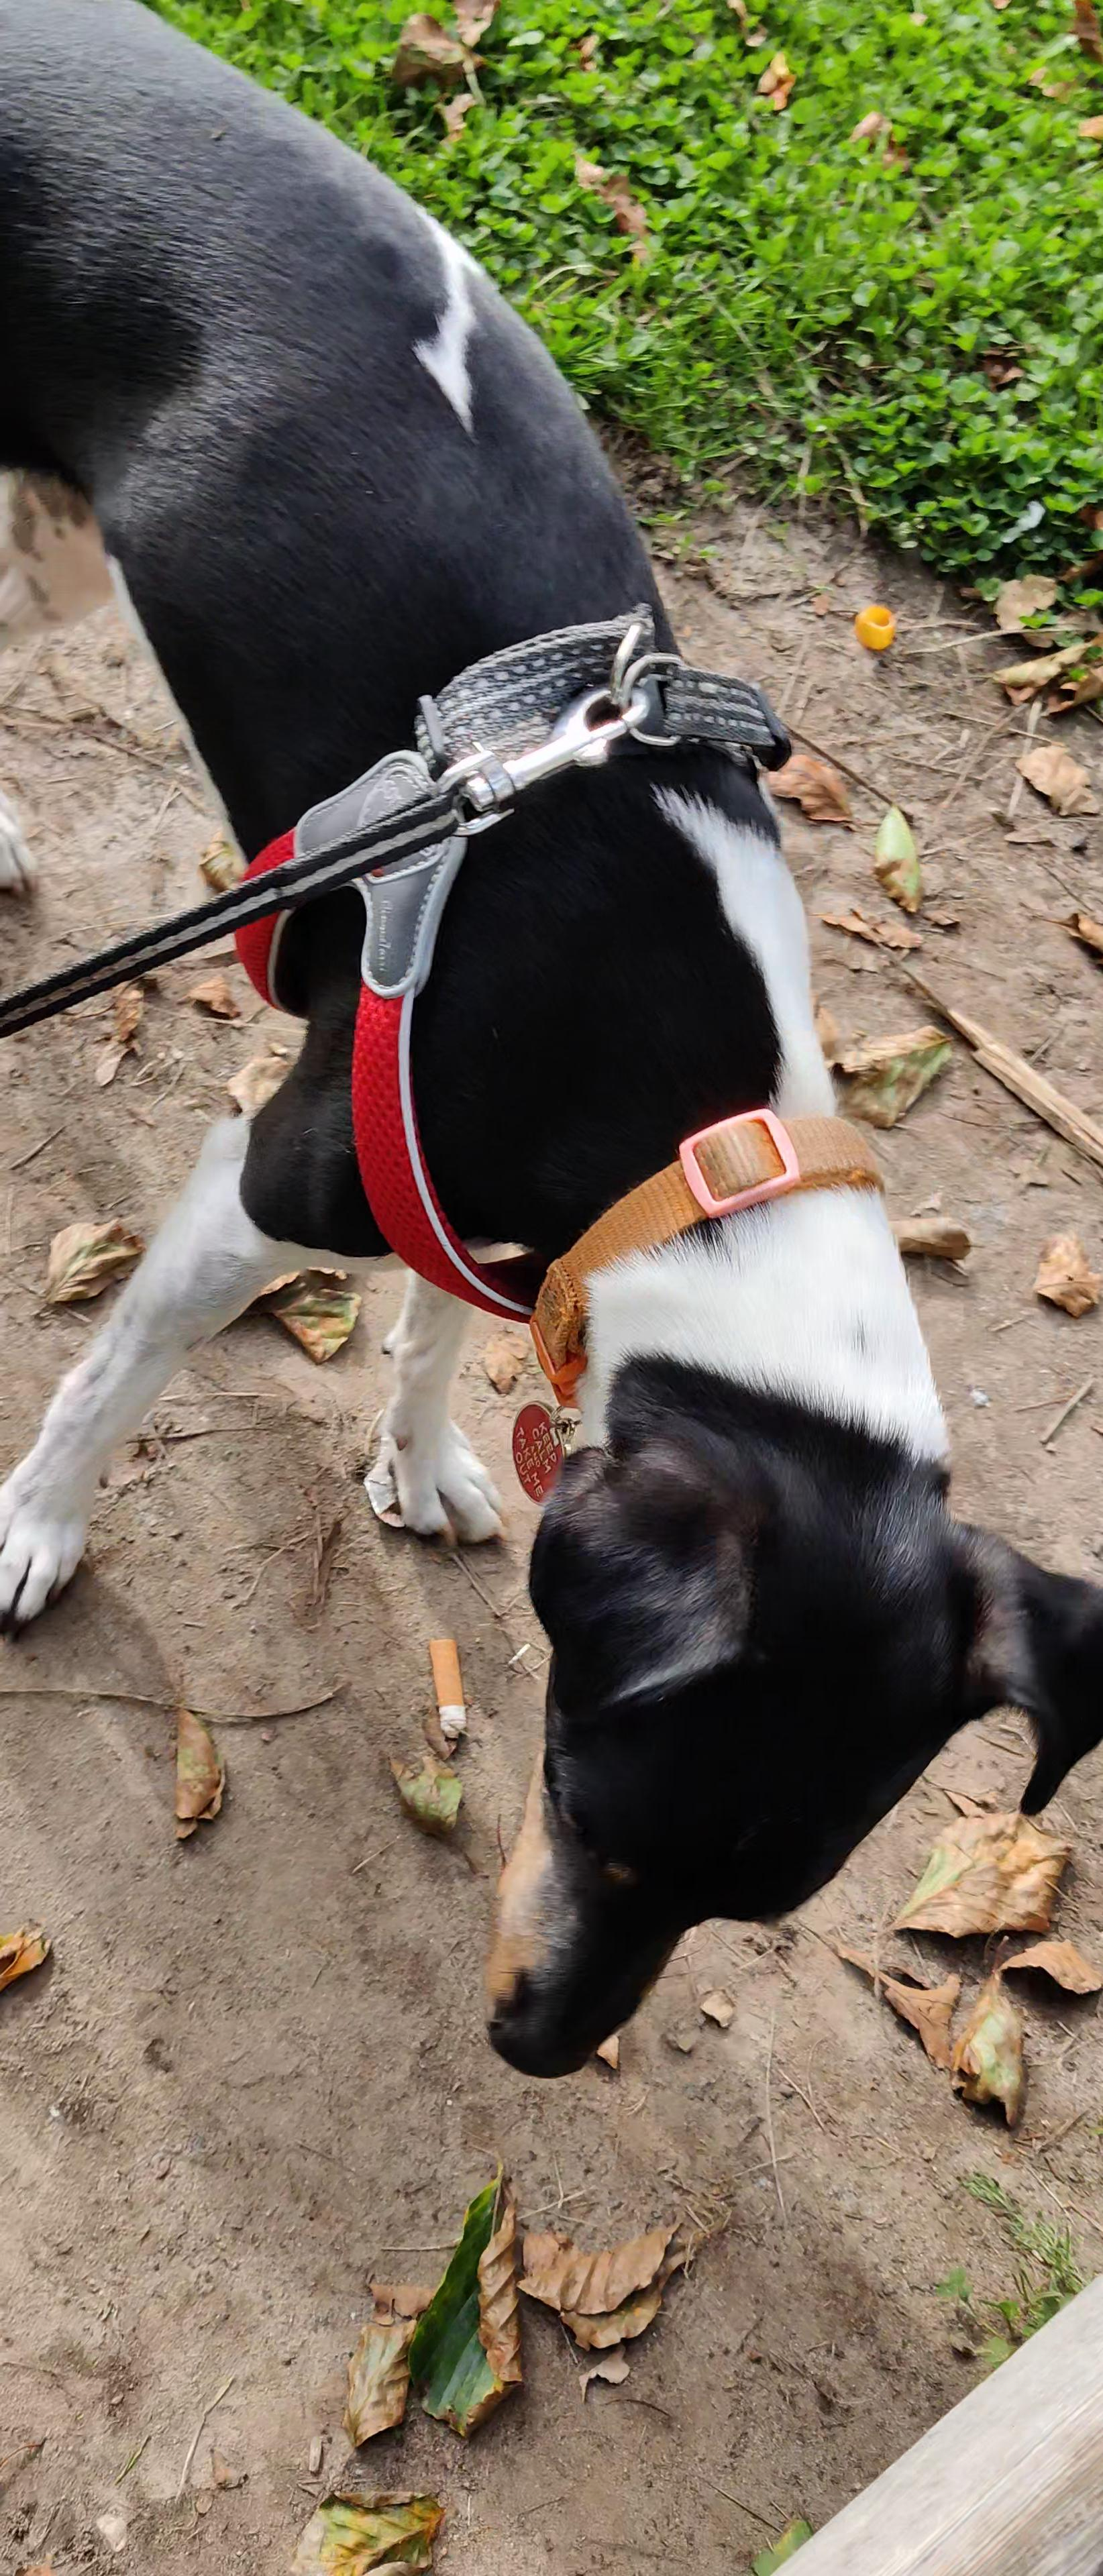Dog: (0, 18, 1103, 2083)
